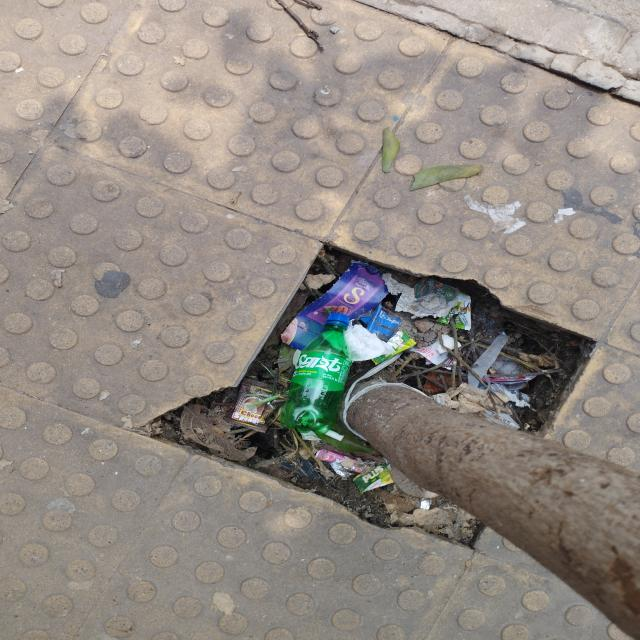plastic: (278, 313, 351, 433)
